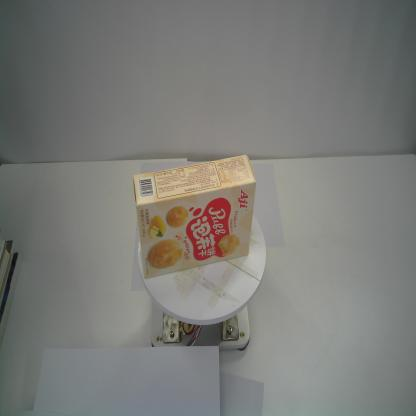Dessert: (134, 154, 256, 278)
